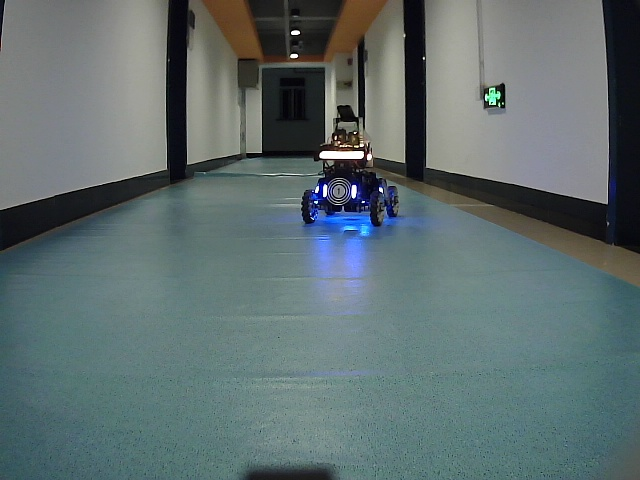lamp: (320, 182, 330, 200), (349, 181, 357, 200)
pair: (322, 185, 357, 199)
